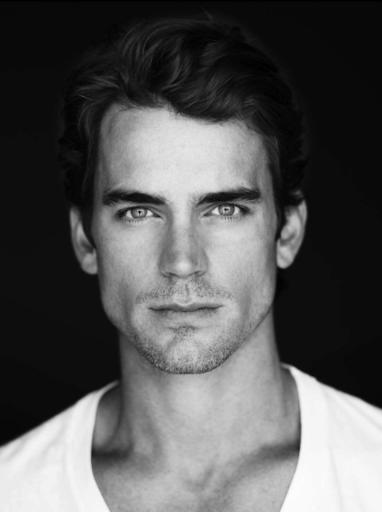left_eye: (202, 201, 255, 223)
left_lip_corner: (207, 301, 230, 318)
right_eye: (114, 205, 164, 225)
right_lip_corner: (146, 301, 169, 321)
